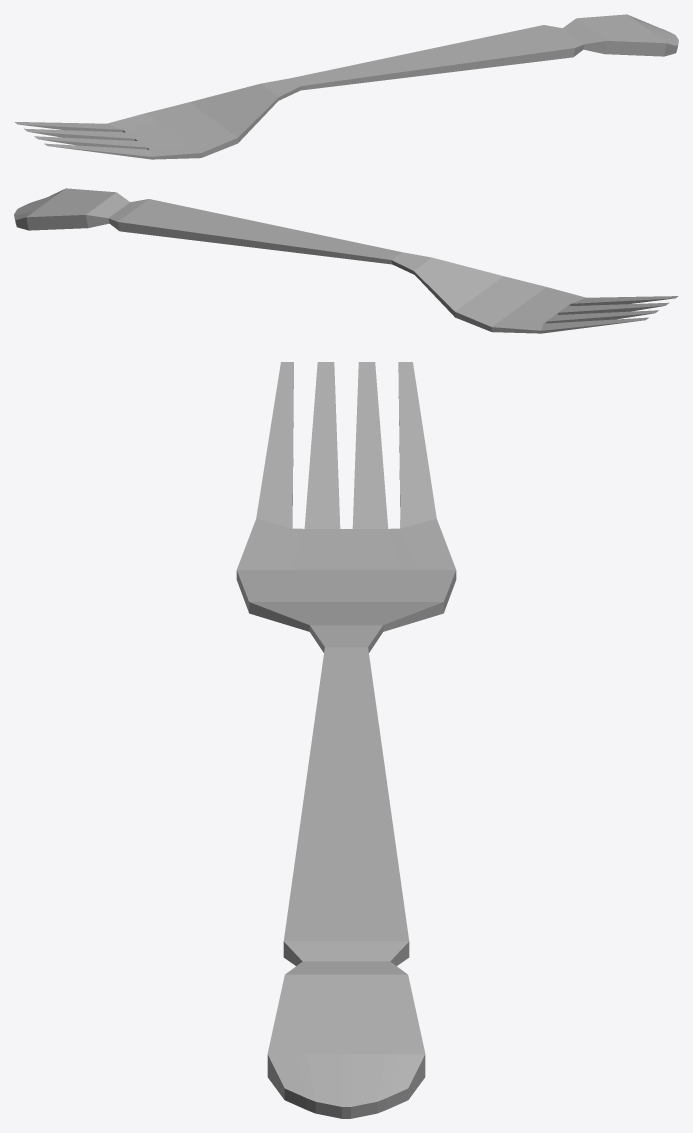
Rendered from Fork_MDL.fbx.
The picture shows the model from 3 angles, top to bottom: view 1: azimuth 30°, elevation 25°; view 2: azimuth 150°, elevation 25°; view 3: azimuth 270°, elevation 25°; orthographic projection. The views are drawn at different scales.
Parts seen in each view (by area): view 1: pCube1; view 2: pCube1; view 3: pCube1.
Boxes of the visible parts, x1,y1,x2,y2 form: pCube1: (14,14,678,159); pCube1: (14,188,678,333); pCube1: (236,362,456,1118).
Bounding box in the file's own units: 22.94 × 2.2 × 3.38.
